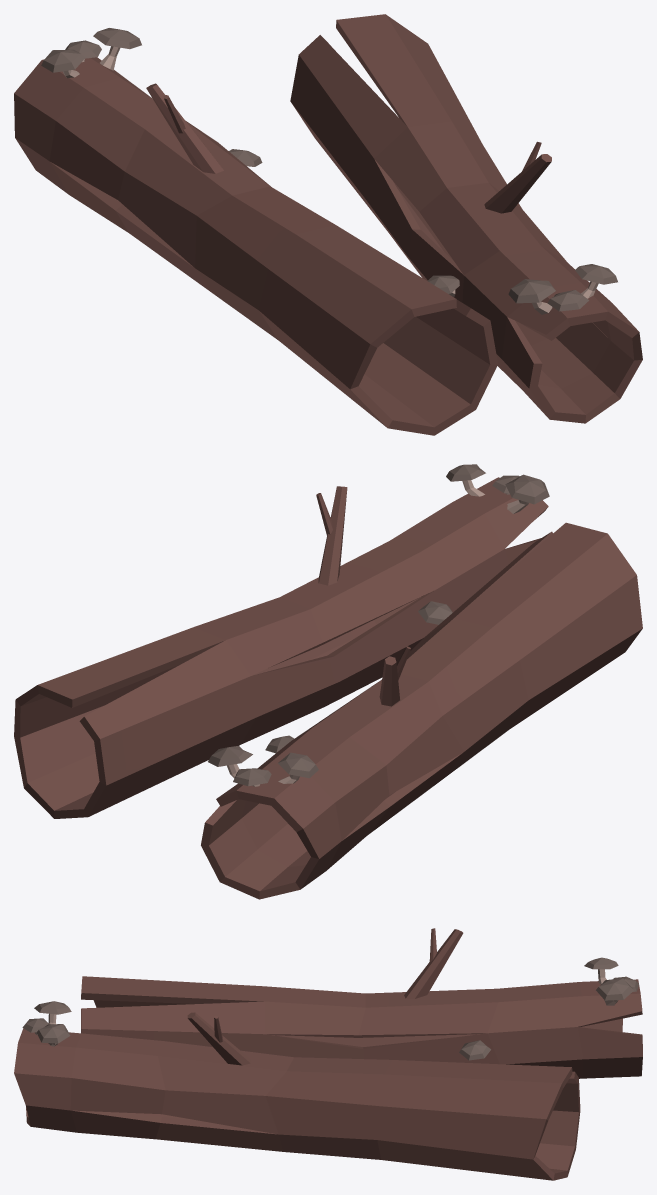
The model's file is WoodLog_2.fbx.
The picture shows the model from 3 angles, top to bottom: view 1: azimuth 30°, elevation 25°; view 2: azimuth 150°, elevation 25°; view 3: azimuth 270°, elevation 25°; orthographic projection. The views are drawn at different scales.
Visible parts, largest first — view 1: WoodLog, WoodLog.001; view 2: WoodLog.001, WoodLog; view 3: WoodLog.001, WoodLog.
Boxes of the visible parts, x1=… form: WoodLog: x1=14, y1=28, x2=497, y2=435; WoodLog.001: x1=290, y1=14, x2=642, y2=423; WoodLog.001: x1=14, y1=464, x2=549, y2=818; WoodLog: x1=201, y1=522, x2=642, y2=899; WoodLog.001: x1=14, y1=1001, x2=580, y2=1180; WoodLog: x1=81, y1=928, x2=642, y2=1078.
Size of the model in its own units: 160 by 74.84 by 299.
